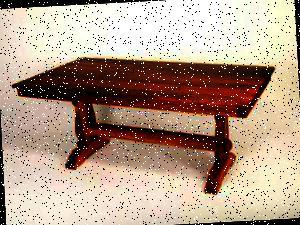Mesa: (15, 48, 278, 204)
